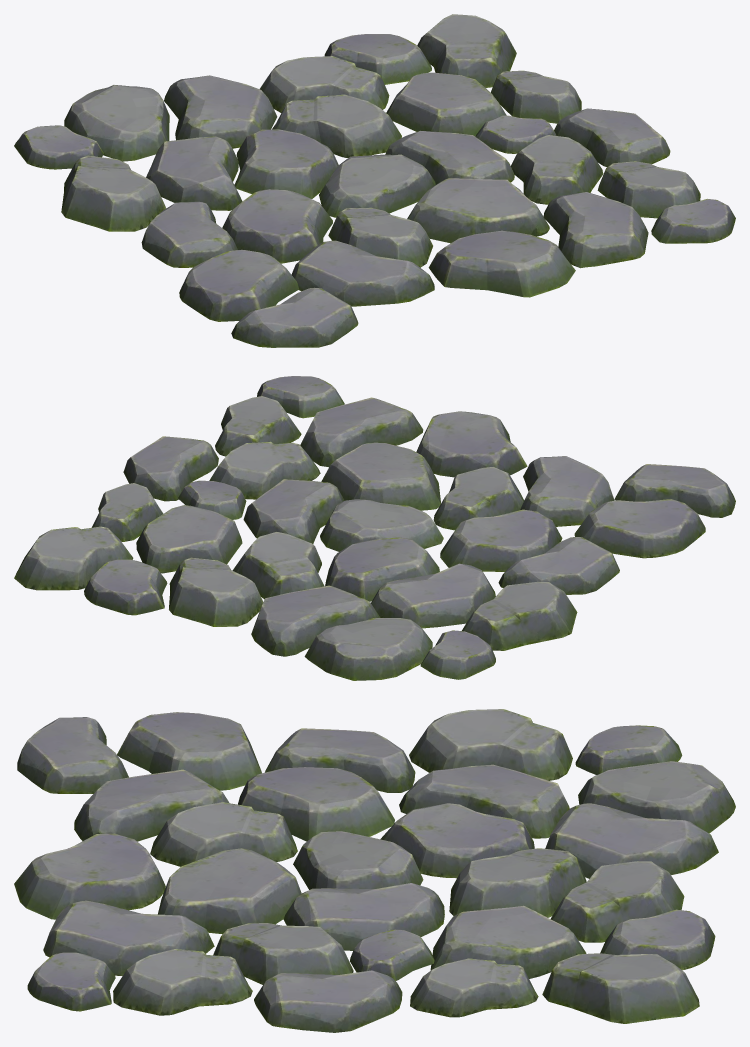
Rendered from RockPath_Round_Wide.glb.
3 views of the same model, one above another, from view 1: azimuth 30°, elevation 25°; view 2: azimuth 150°, elevation 25°; view 3: azimuth 270°, elevation 25° (orthographic). The views are drawn at different scales.
Size of the model in its own units: 2.11 by 0.1128 by 2.13.
1 material, 1 textured.
